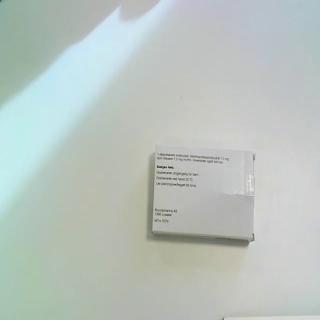dolcontin10mg: (151, 143, 257, 246)
